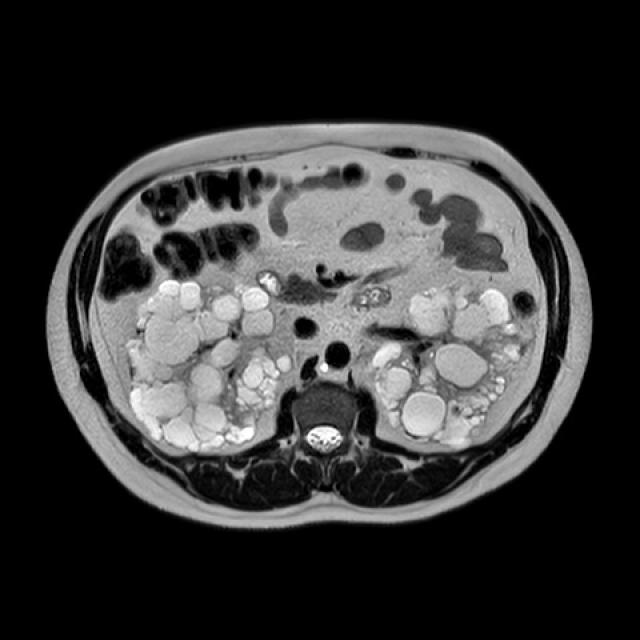sag: (124, 278, 297, 450)
sol: (373, 279, 533, 449)
